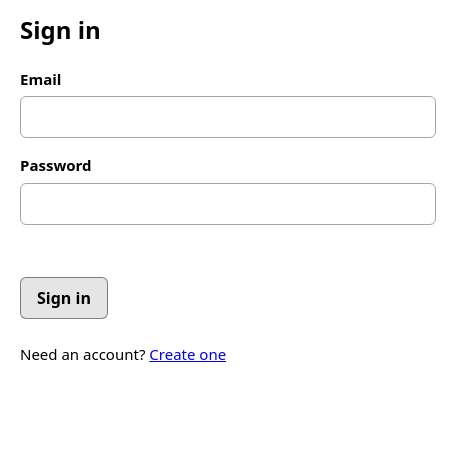
it: LoginPage › shows a generic connectivity message on a network failure
Type "user@example.com" into the field labelled "Email".
click(228, 117); type("user@example.com")  # box [20,96,436,138]
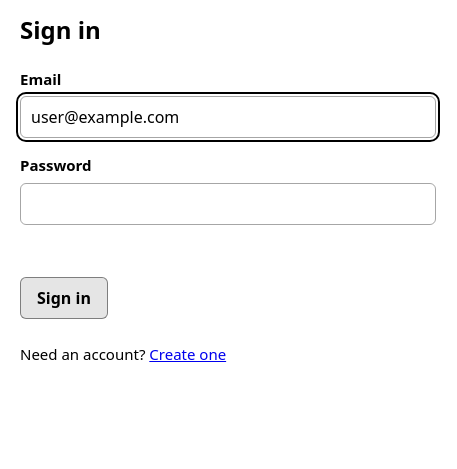
Type "correct horse" into the password field labelled "Password".
click(228, 204); type("correct horse")  # box [20,183,436,225]
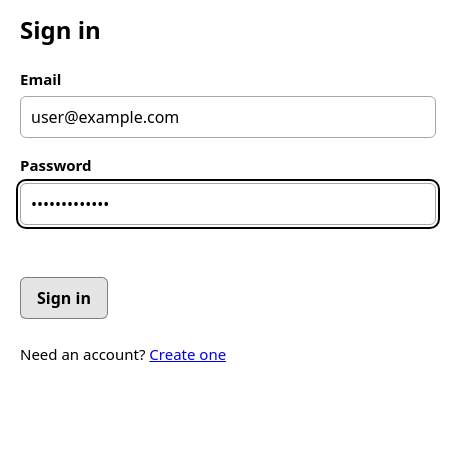
Click the button "Sign in".
click(64, 298)  # box [20,277,108,319]
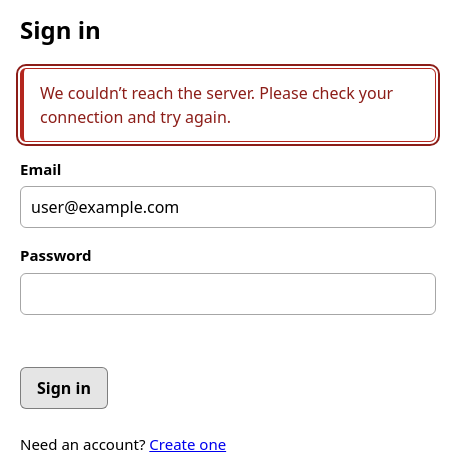
Check: the message "We couldn’t reach the server. Please check your connection and try again." is shown, box [20,68,436,142]
